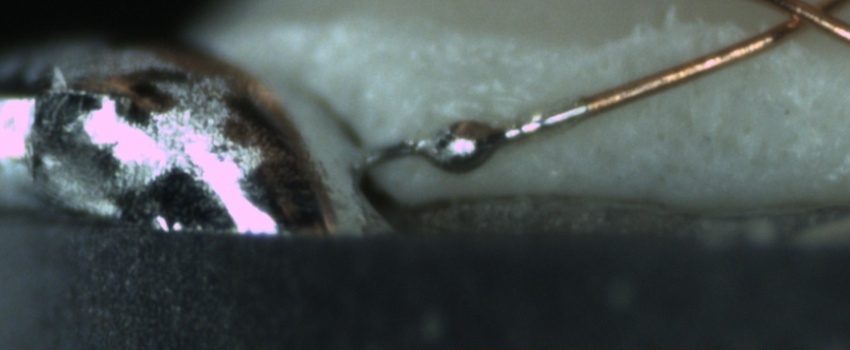CL: (763, 0, 847, 41)
DL: (378, 26, 604, 66)
TB: (422, 116, 500, 176)
TS: (361, 103, 590, 171)
TTCW: (356, 84, 635, 176)
